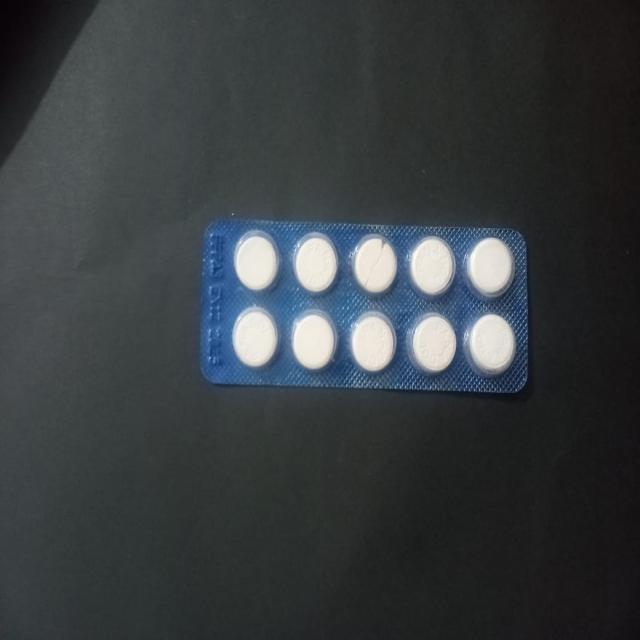defect: (347, 230, 400, 302)
